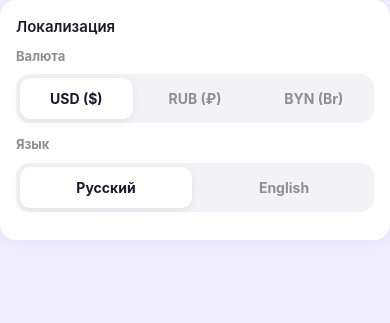
Test: LocalizationBlock › исчезает Save при возврате к исходным значениям
Click the radio button labelled "RUB (₽)".
click(195, 98)  # box [139,78,251,119]
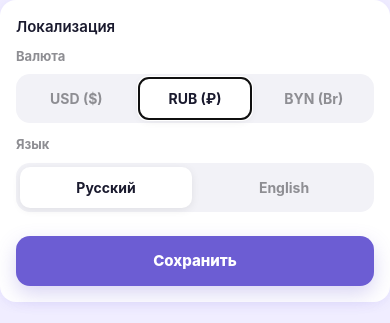
Result: the button "Сохранить" is shown at [16,236,374,286]
Click the radio button labelled "USD ($)".
click(76, 98)  # box [20,78,133,119]
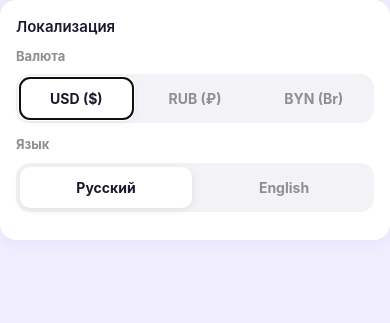
Result: the button "Сохранить" is gone
